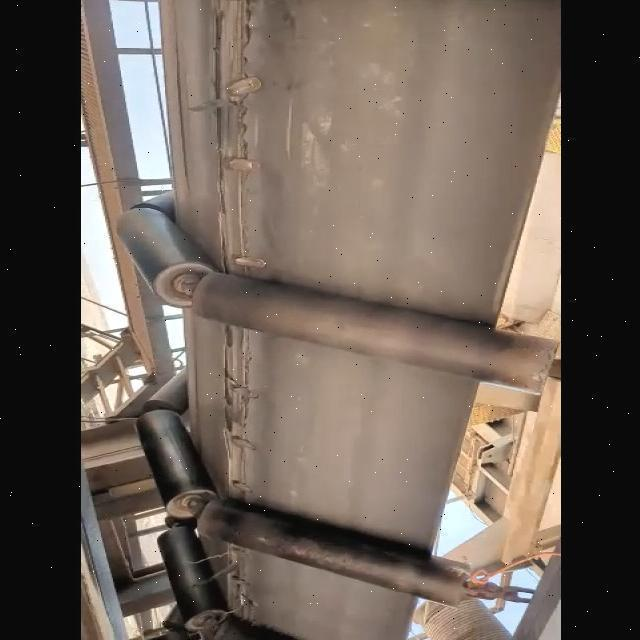Tear: (206, 0, 268, 278), (214, 322, 260, 502), (216, 540, 259, 629)
